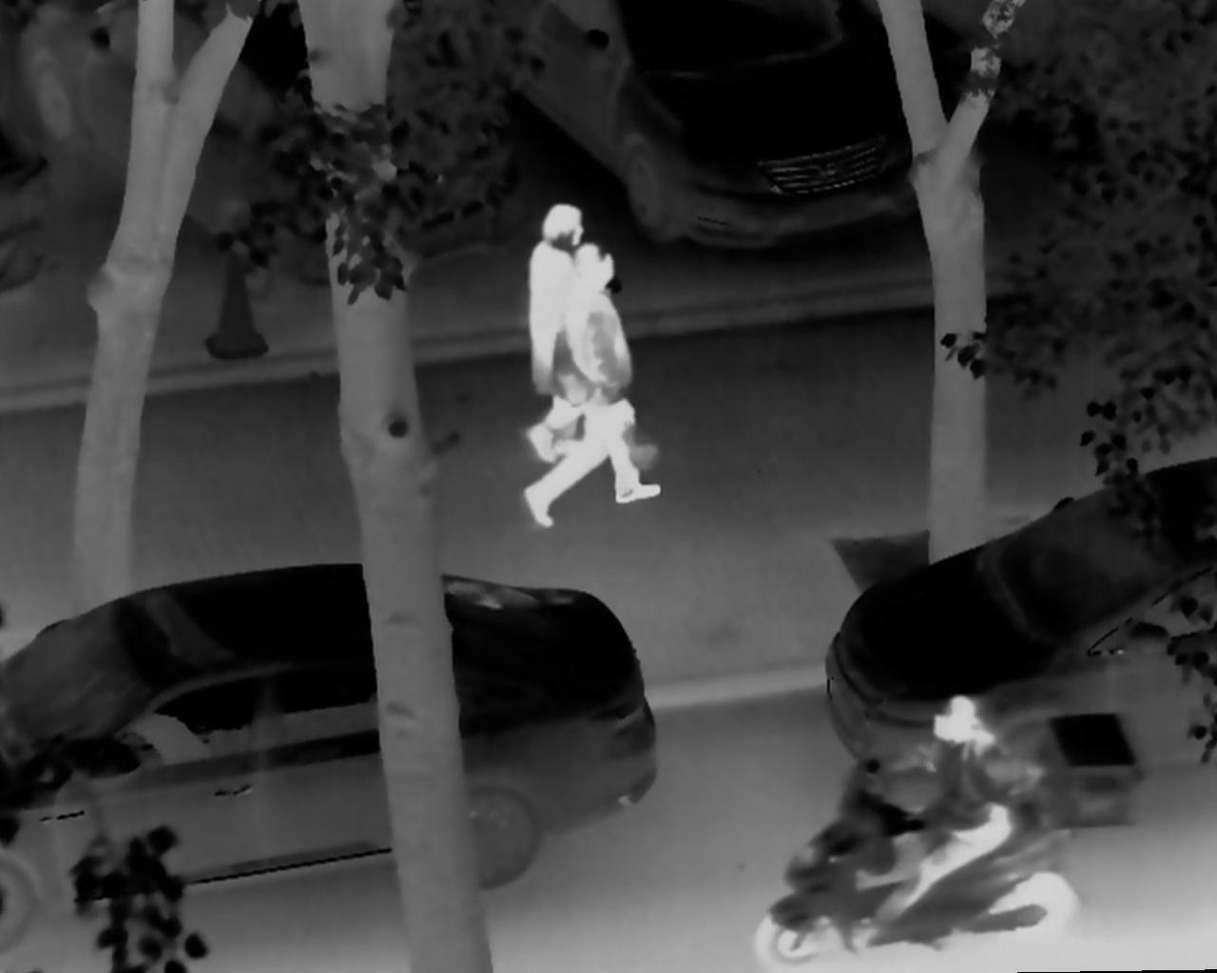person: (847, 688, 1024, 953), (517, 245, 664, 529), (509, 200, 605, 452)
